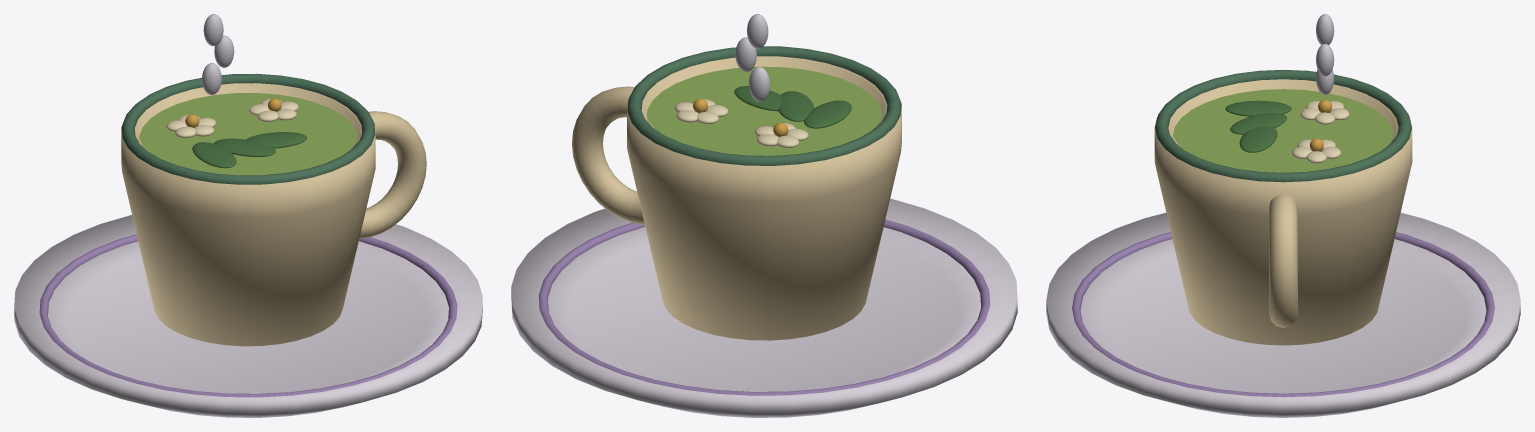
Rendered from meadowtea.glb.
3 views of the same model, side by side, from view 1: azimuth 30°, elevation 25°; view 2: azimuth 150°, elevation 25°; view 3: azimuth 270°, elevation 25° (orthographic). The views are drawn at different scales.
Visible parts, largest first — view 1: _cup_lathe, _herb-infusion_cyl, _herb-leaves_sphere, _flower_sphere, _steam_steam; view 2: _cup_lathe, _herb-infusion_cyl, _herb-leaves_sphere, _flower_sphere, _steam_steam; view 3: _cup_lathe, _herb-infusion_cyl, _herb-leaves_sphere, _flower_sphere, _steam_steam.
Boxes of the visible parts, x1,y1,x2,y2 form: _cup_lathe: (14, 73, 482, 417); _herb-infusion_cyl: (139, 93, 357, 175); _herb-leaves_sphere: (192, 132, 306, 168); _flower_sphere: (166, 98, 298, 138); _steam_steam: (202, 14, 234, 95); _cup_lathe: (511, 46, 1017, 417); _herb-infusion_cyl: (646, 66, 882, 155); _herb-leaves_sphere: (734, 86, 851, 128); _flower_sphere: (674, 98, 808, 148); _steam_steam: (735, 14, 770, 101); _cup_lathe: (1046, 70, 1520, 417); _herb-infusion_cyl: (1173, 89, 1393, 172); _herb-leaves_sphere: (1225, 100, 1291, 152); _flower_sphere: (1292, 100, 1349, 163); _steam_steam: (1316, 14, 1334, 94).
Bounding box in the file's own units: 1.14 × 0.837 × 1.14.
